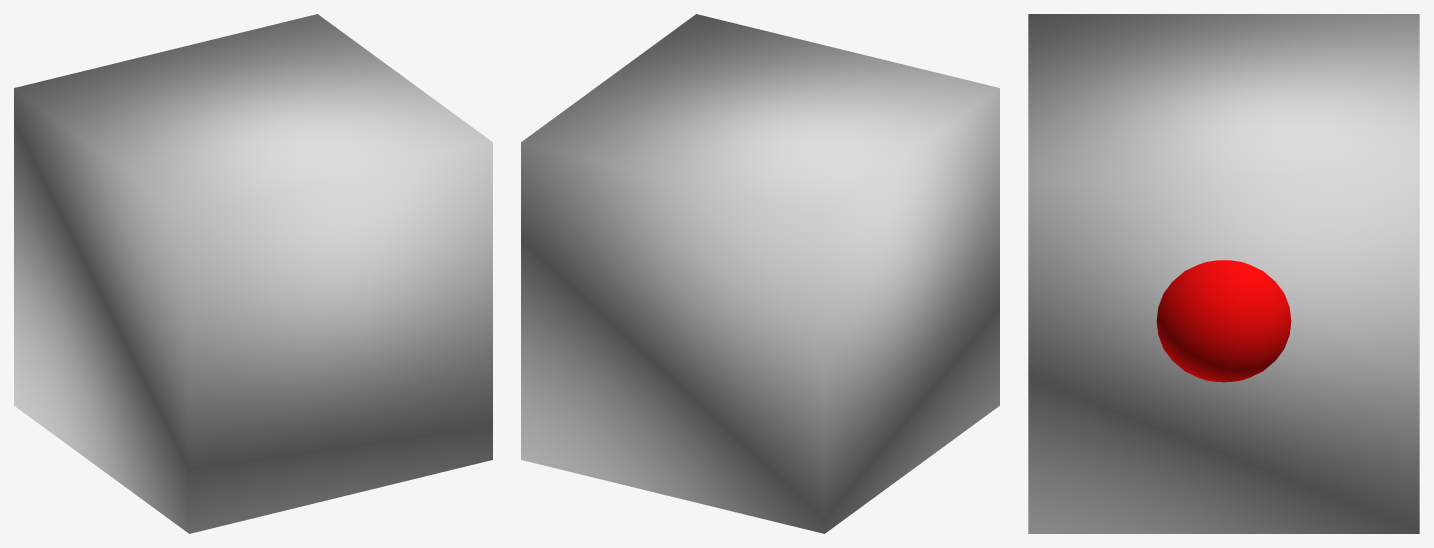
Rendered from sensor.glb.
3 renders of one model, left to right at view 1: azimuth 30°, elevation 25°; view 2: azimuth 150°, elevation 25°; view 3: azimuth 270°, elevation 25°, orthographic. The views are drawn at different scales.
Parts seen in each view (by area): view 1: Cube; view 2: Cube; view 3: Cube.
Part boxes in pixels (x1,y1,x2,y2): Cube: (14,14,492,533); Cube: (521,14,999,533); Cube: (1028,14,1419,533).
Size of the model in its own units: 0.022 by 0.02 by 0.02.
